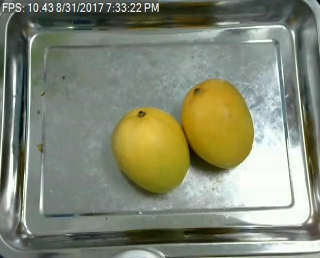Mango: (113, 107, 191, 192), (183, 79, 253, 166)
